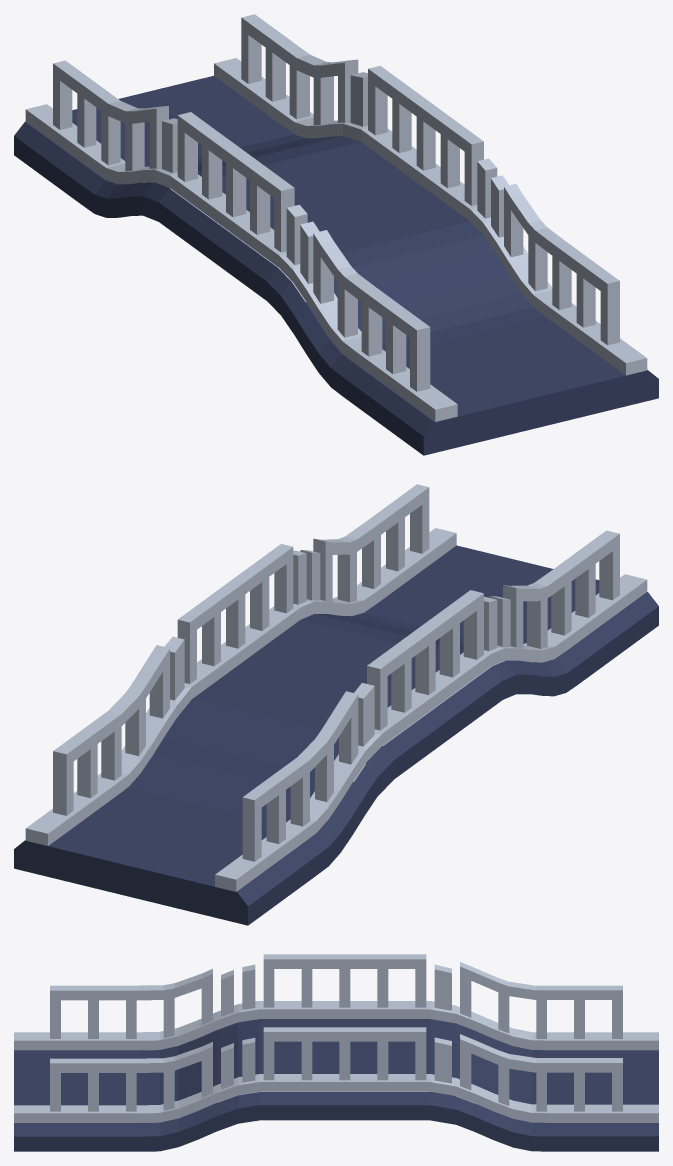
File: adv_bridge_3x3.fbx
3 renders of one model, top to bottom at view 1: azimuth 30°, elevation 25°; view 2: azimuth 150°, elevation 25°; view 3: azimuth 270°, elevation 25°, orthographic. The views are drawn at different scales.
Visible parts, largest first — view 1: adv_bridge_1x3; view 2: adv_bridge_1x3; view 3: adv_bridge_1x3.
Boxes of the visible parts, x1,y1,x2,y2 form: adv_bridge_1x3: (14,14,658,455); adv_bridge_1x3: (14,484,658,925); adv_bridge_1x3: (14,954,658,1151).
Bounding box in the file's own units: 200 × 117 × 604.
